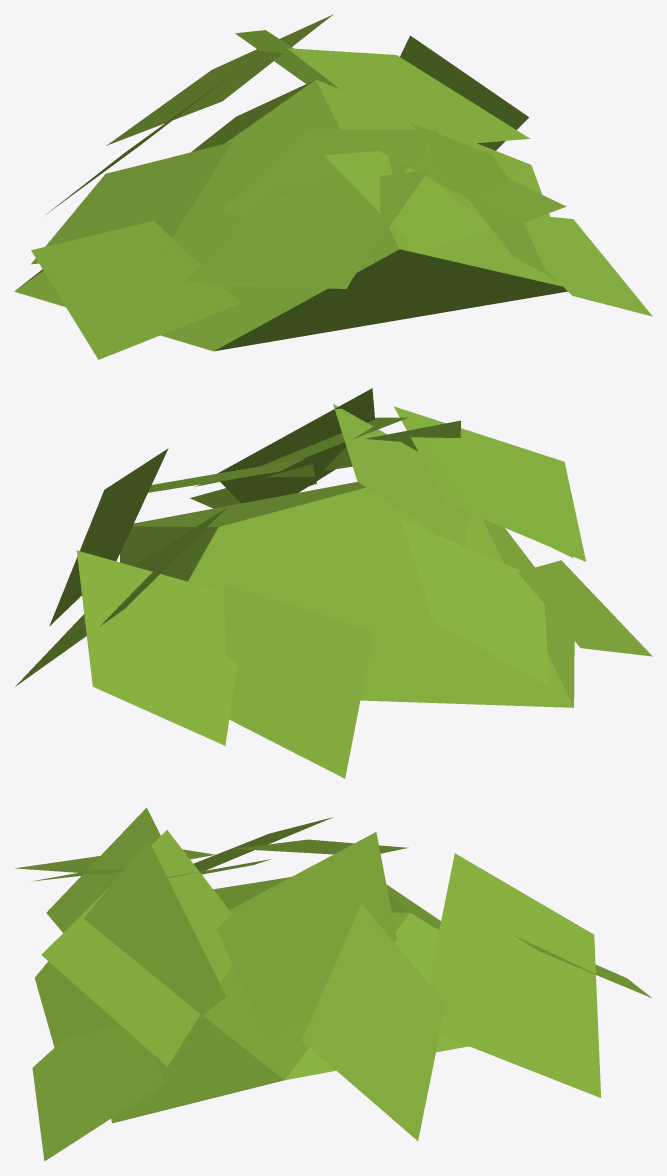
Rendered from SM_Leaves_Bunch_B.fbx.
The picture shows the model from 3 angles, top to bottom: view 1: azimuth 30°, elevation 25°; view 2: azimuth 150°, elevation 25°; view 3: azimuth 270°, elevation 25°; orthographic projection. The views are drawn at different scales.
Visible parts, largest first — view 1: leaves-bunch-b; view 2: leaves-bunch-b; view 3: leaves-bunch-b.
Boxes of the visible parts, bbox=[...] form: leaves-bunch-b: bbox=[14, 14, 652, 359]; leaves-bunch-b: bbox=[15, 388, 652, 778]; leaves-bunch-b: bbox=[15, 807, 651, 1161].
Size of the model in its own units: 0.4109 by 0.1646 by 0.4333.
